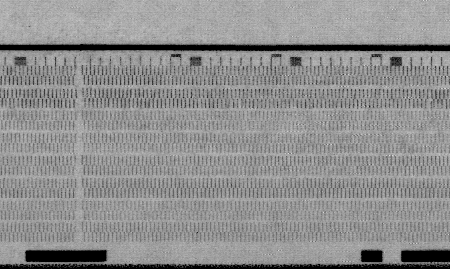Oblique printing: (424, 97, 436, 111)
